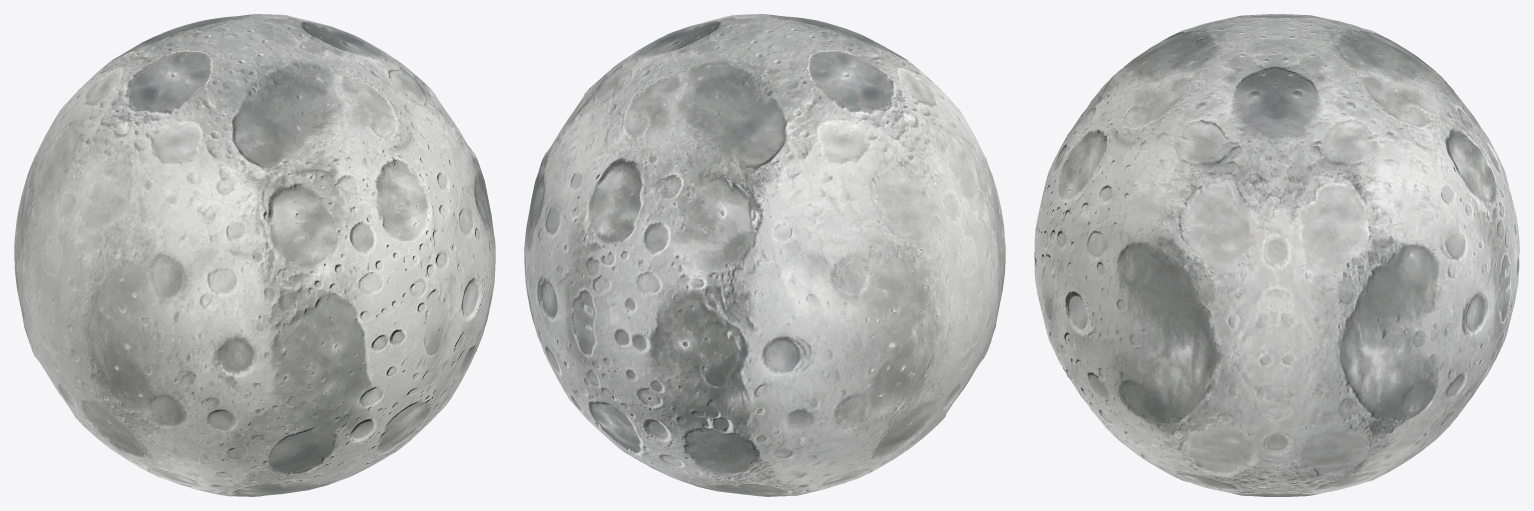
File: fake-moon.glb
3 views of the same model, side by side, from view 1: azimuth 30°, elevation 25°; view 2: azimuth 150°, elevation 25°; view 3: azimuth 270°, elevation 25° (orthographic).
Size of the model in its own units: 1.9 by 1.89 by 1.9.
Materials: 1 (1 with a texture image).
